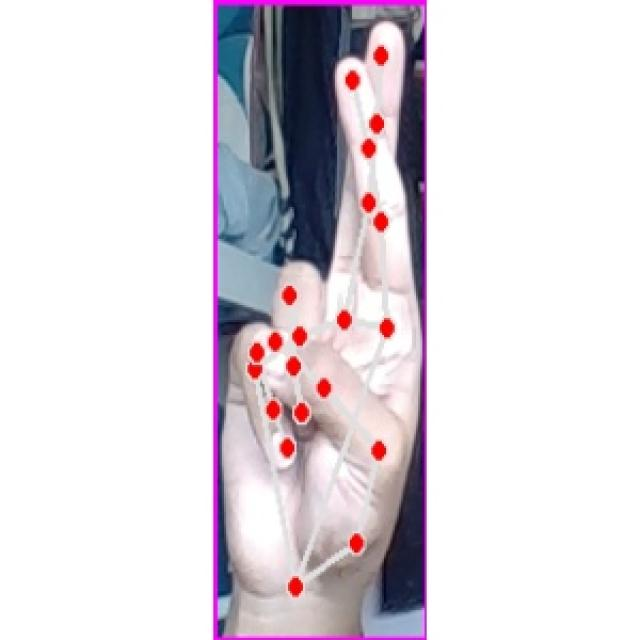R: (225, 14, 421, 613)
